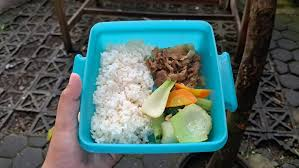Nasi putih: (89, 34, 153, 147)
